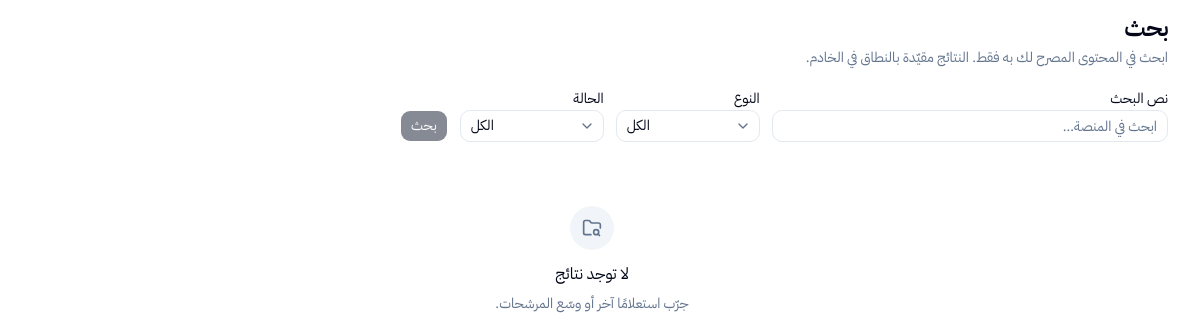
Test: search screen › drops stale local results on a real scope epoch change before any refetch
This screenshot has width=1185, height=335.
Type "أبجد" into the field labelled "نص البحث" at x=970, y=126, box [772, 110, 1168, 142]
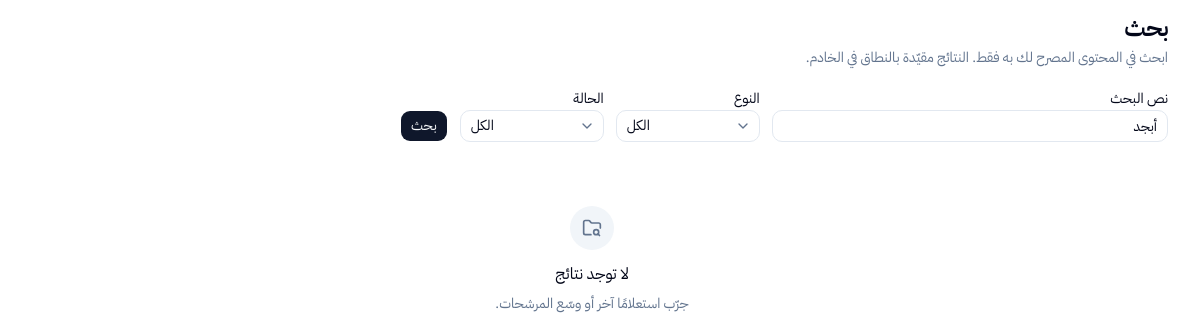
Click the button "بحث" at x=424, y=126, box [400, 110, 448, 142]
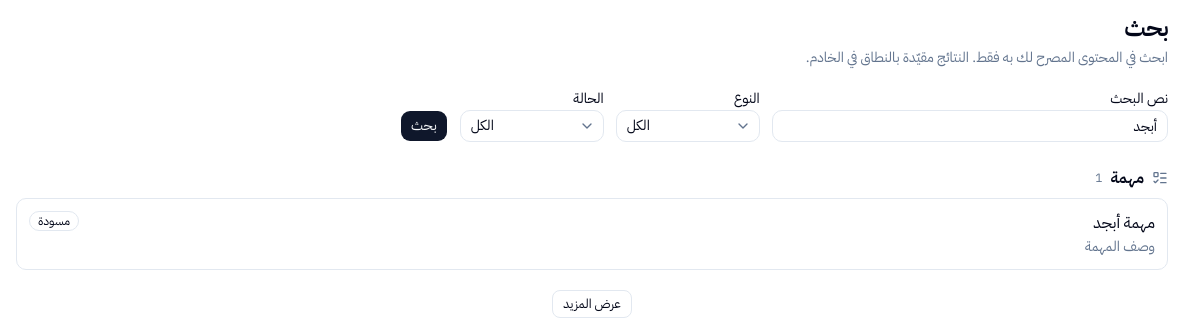
Check: the link "مهمة أبجد" is shown, box [1085, 211, 1155, 235]
